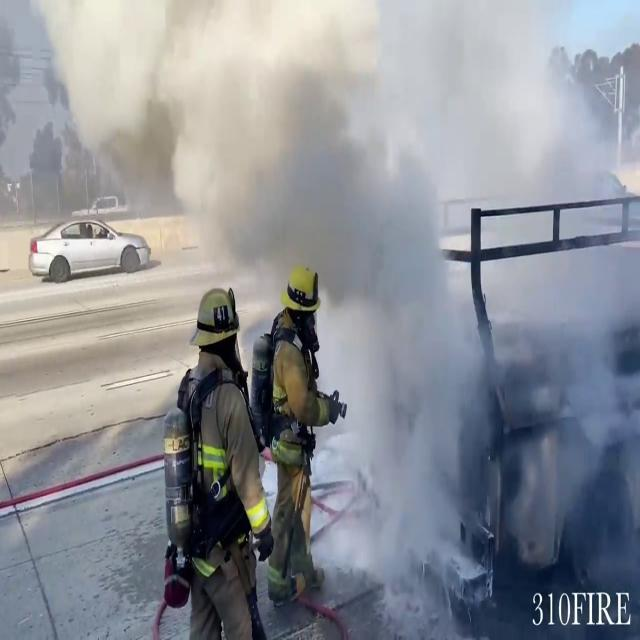Smoke: (41, 1, 640, 614)
